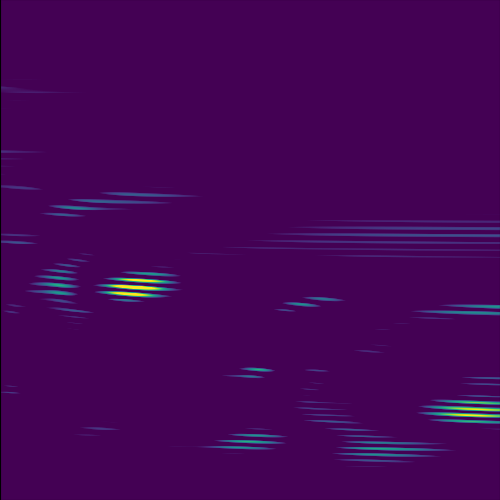semblance: (92, 269, 180, 305), (417, 395, 500, 427)
